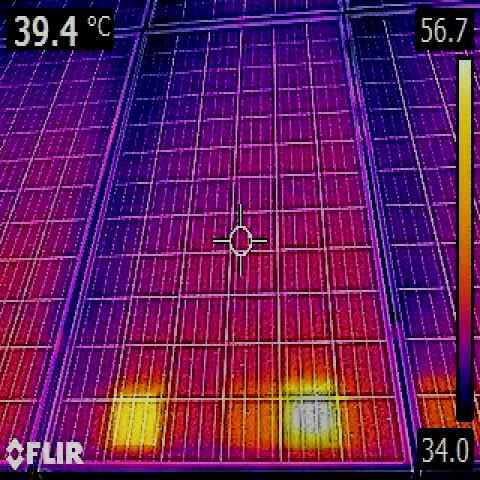fault: (283, 390, 335, 452), (113, 394, 156, 445)
